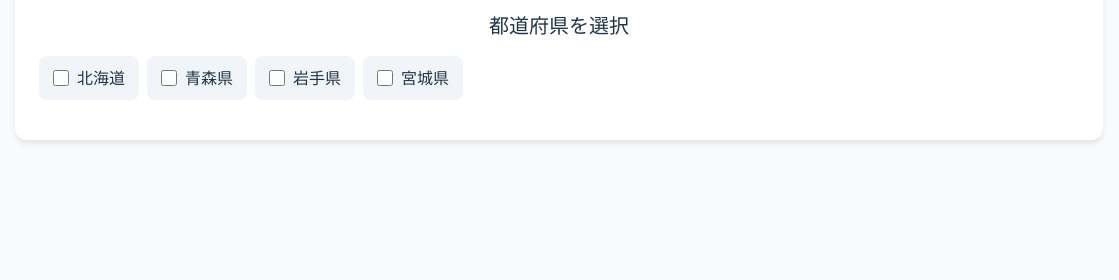
Scenario: SelectCard › displays selected prefectures list
The width and height of the screenshot is (1119, 280).
Expected: the text "選択された都道府県:" is not shown
What coordinates should you click on to do the following:
click the text "北海道"
I would click on:
 (89, 78)
Its box is 39,56 -> 139,100.
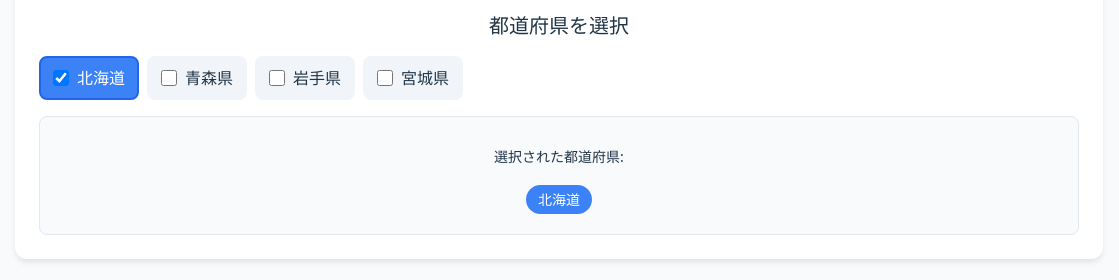
Result: the text "選択された都道府県:" is shown at 494,147 -> 624,166
Result: the text "北海道" below "選択された都道府県:" is shown at 538,190 -> 580,209
What coordinates should you click on to do the following:
click the text "青森県"
I would click on:
 (197, 78)
Its box is 147,56 -> 247,100.
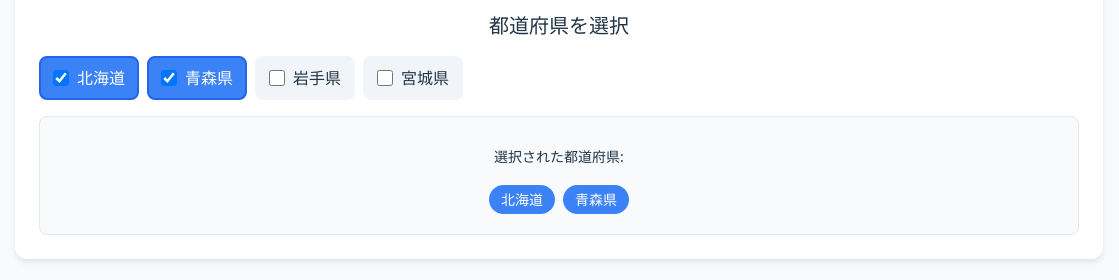
Result: the text "青森県" below "選択された都道府県:" is shown at 575,190 -> 617,209
